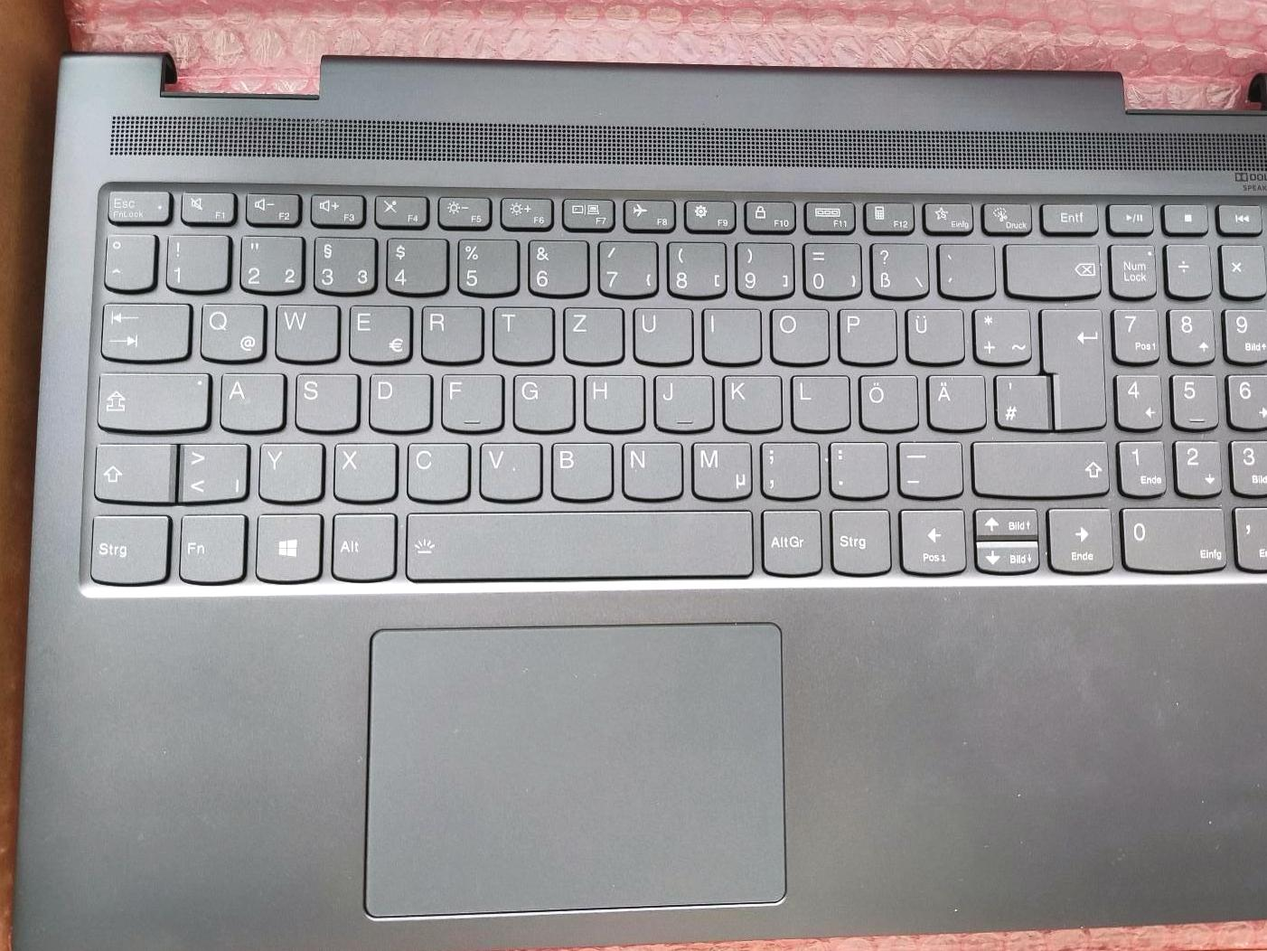0: (799, 238, 860, 297)
1: (163, 230, 229, 290)
2: (236, 231, 304, 290)
3: (309, 232, 376, 292)
4: (384, 233, 446, 292)
5: (453, 234, 517, 293)
6: (524, 235, 587, 294)
7: (595, 236, 657, 295)
8: (663, 237, 725, 296)
9: (732, 238, 793, 296)
a: (217, 369, 284, 430)
accent: (934, 239, 994, 296)
ae: (924, 371, 985, 429)
alt-left: (327, 509, 395, 579)
altgr-right: (758, 505, 821, 574)
b: (548, 438, 613, 500)
c: (403, 438, 469, 500)
caret: (101, 229, 154, 288)
comma: (756, 438, 819, 497)
d: (365, 369, 430, 431)
del: (1001, 239, 1100, 297)
e: (345, 301, 411, 362)
enter: (1037, 304, 1103, 429)
f: (437, 369, 502, 429)
g: (509, 370, 573, 430)
h: (581, 371, 643, 429)
hash: (991, 371, 1047, 428)
i: (699, 304, 760, 363)
j: (651, 370, 711, 429)
k: (719, 371, 782, 430)
keyboard: (72, 171, 1267, 599)
l: (788, 371, 849, 429)
less: (175, 438, 248, 501)
m: (688, 438, 751, 498)
minus: (893, 438, 962, 496)
n: (619, 438, 682, 498)
o: (766, 304, 829, 363)
oe: (855, 371, 917, 429)
p: (835, 305, 896, 363)
plus: (970, 304, 1030, 363)
point: (825, 438, 887, 496)
q: (196, 299, 266, 361)
r: (418, 302, 483, 362)
s: (292, 369, 358, 431)
shift-left: (89, 438, 171, 501)
shift-lock: (93, 368, 210, 430)
shift-right: (969, 436, 1109, 495)
space: (401, 506, 753, 579)
ss: (867, 239, 927, 296)
strg-left: (84, 509, 168, 583)
strg-right: (827, 505, 890, 573)
t: (490, 302, 552, 362)
tab: (98, 297, 190, 359)
u: (630, 304, 692, 363)
ue: (902, 304, 963, 363)
v: (476, 438, 540, 499)
w: (271, 299, 338, 361)
x: (331, 438, 396, 501)
y: (256, 438, 323, 501)
z: (560, 302, 623, 363)
